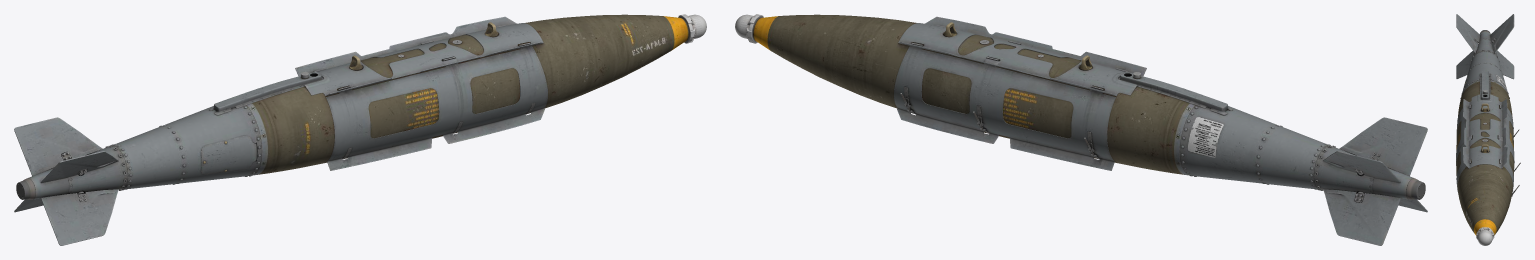
Rendered from us_usaf_gbu-31_jdam_guided_bomb_war_thunder.glb.
3 renders of one model, left to right at view 1: azimuth 30°, elevation 25°; view 2: azimuth 150°, elevation 25°; view 3: azimuth 270°, elevation 25°, orthographic. The views are drawn at different scales.
Visible parts, largest first — view 1: Object_2, Object_3; view 2: Object_2, Object_3; view 3: Object_2, Object_3.
Boxes of the visible parts, bbox=[...] form: Object_2: bbox=[14, 14, 706, 245]; Object_3: bbox=[295, 16, 547, 170]; Object_2: bbox=[735, 14, 1427, 245]; Object_3: bbox=[898, 16, 1146, 170]; Object_2: bbox=[1456, 14, 1520, 245]; Object_3: bbox=[1456, 94, 1514, 192].
Bounding box in the file's own units: 3.85 × 0.511 × 0.5103.
Materials: 1 (1 with a texture image).
